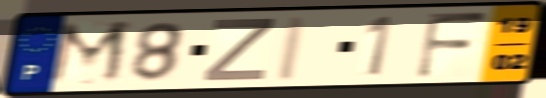1: (363, 14, 395, 79)
8: (128, 19, 188, 84)
F: (413, 10, 492, 80)
I: (272, 14, 312, 83)
M: (43, 19, 135, 88)
Z: (199, 17, 277, 83)
